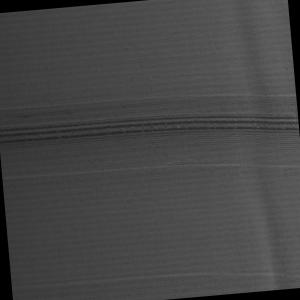Wrinkle: (229, 1, 300, 292)
